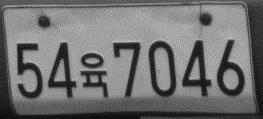0: (148, 40, 177, 97)
4: (180, 38, 213, 97), (46, 41, 78, 99)
5: (14, 41, 43, 99)
6: (214, 37, 246, 96)
7: (112, 40, 141, 98)
육: (78, 50, 109, 98)
